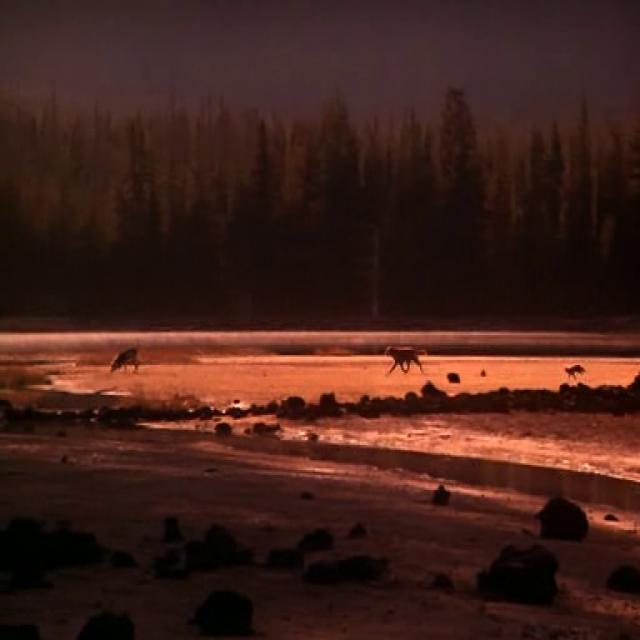Dog: (68, 310, 153, 399), (359, 334, 451, 394)
